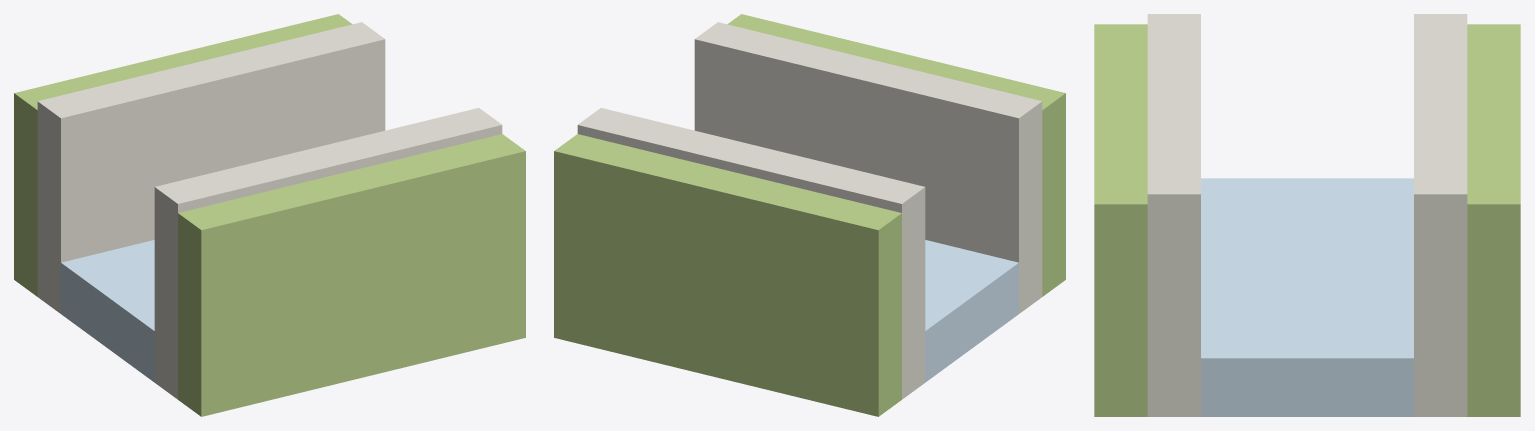
Rendered from road_tile_205.glb.
3 views of the same model, side by side, from view 1: azimuth 30°, elevation 25°; view 2: azimuth 150°, elevation 25°; view 3: azimuth 270°, elevation 25° (orthographic). The views are drawn at different scales.
Parts seen in each view (by area): view 1: roadTile_205; view 2: roadTile_205; view 3: roadTile_205.
Boxes of the visible parts, box(x1,y1,x2,y2) form: roadTile_205: box(14, 14, 525, 416); roadTile_205: box(554, 14, 1065, 416); roadTile_205: box(1094, 14, 1520, 416).
Size of the model in its own units: 3 by 1.73 by 3.
